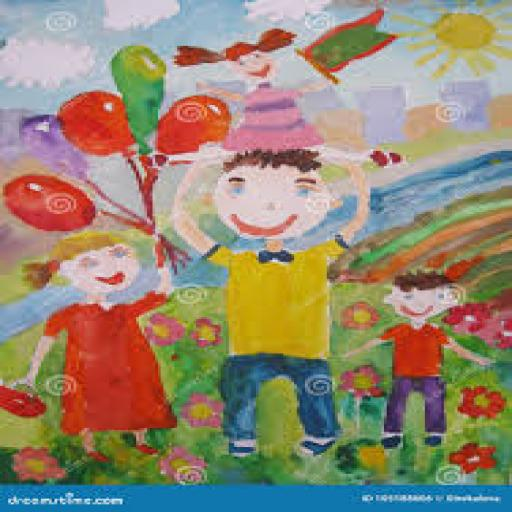person: (168, 140, 383, 472), (15, 216, 188, 474), (338, 259, 500, 463), (184, 12, 340, 158)
